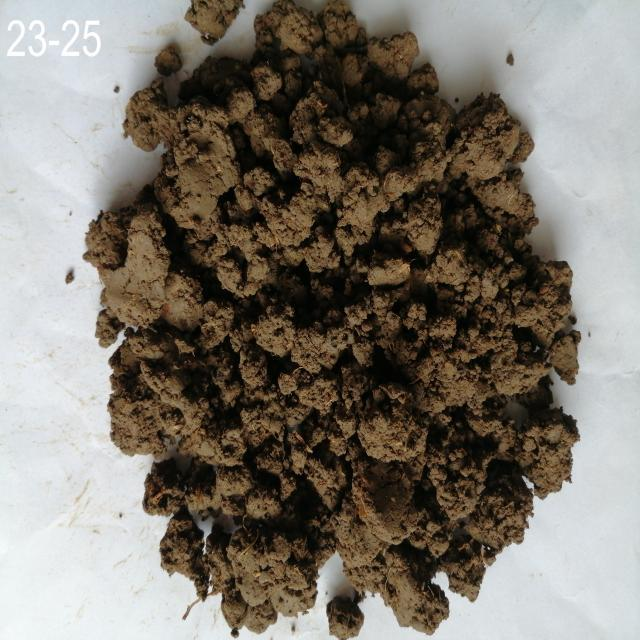soil: (197, 118, 508, 550)
